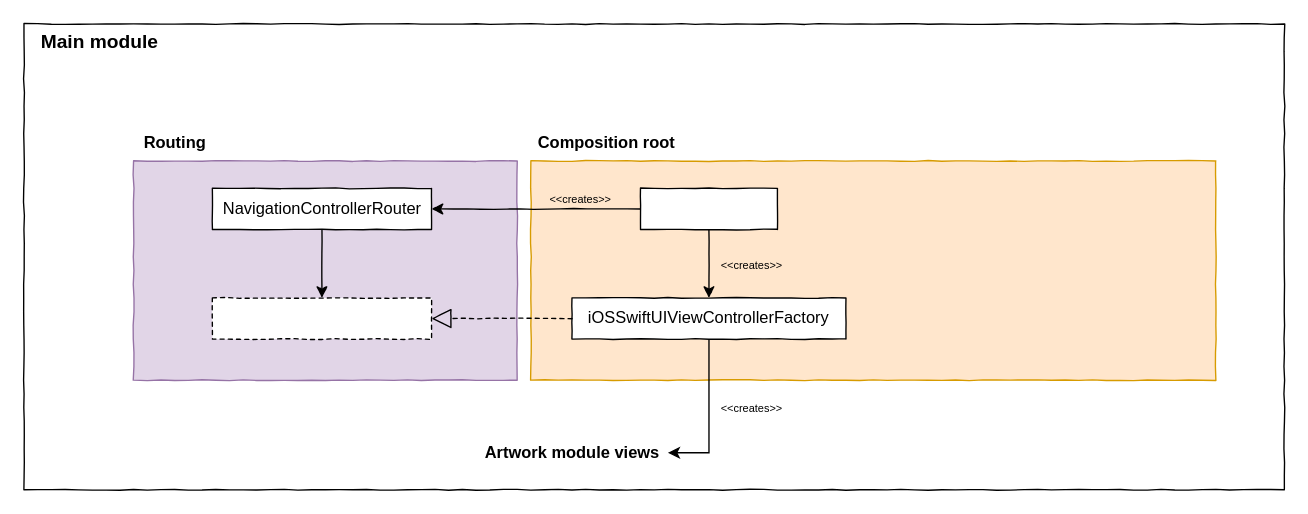
This 1308x514 diagram has some shape labels left out. The box of each missing label's shape, as (x1, y1, x2, y2) in pixels:
<ViewControllerFactory >: (211, 297, 432, 339)
AppDelegate: (639, 187, 777, 229)
